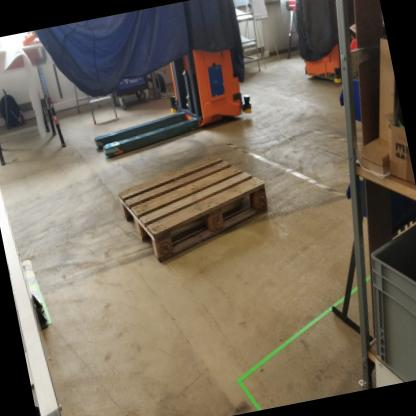BoxFace: (113, 148, 271, 271)
